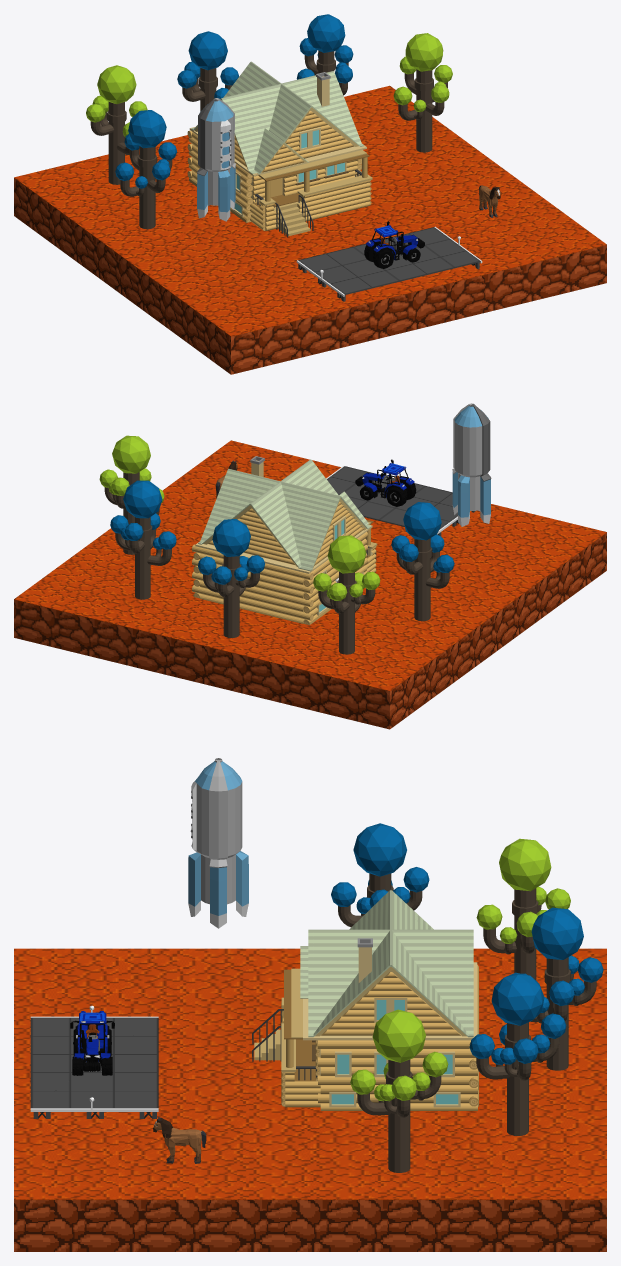
The picture shows the model from 3 angles, top to bottom: view 1: azimuth 30°, elevation 25°; view 2: azimuth 150°, elevation 25°; view 3: azimuth 270°, elevation 25°; orthographic projection. The views are drawn at different scales.
Visible parts, largest first — view 1: Cube.001, Cube.1516, OBJRANDOM_ROCKETSHIP, VEHICLES_TRACTOR, ANIMAL_CABALLO; view 2: Cube.001, Cube.1516, OBJRANDOM_ROCKETSHIP, VEHICLES_TRACTOR; view 3: Cube.001, Cube.1516, OBJRANDOM_ROCKETSHIP, VEHICLES_TRACTOR, ANIMAL_CABALLO.
Boxes of the visible parts, <box> form: Cube.001: <box>14,14,606,374</box>; Cube.1516: <box>187,61,372,237</box>; OBJRANDOM_ROCKETSHIP: <box>197,98,235,221</box>; VEHICLES_TRACTOR: <box>364,221,424,268</box>; ANIMAL_CABALLO: <box>479,185,500,217</box>; Cube.001: <box>14,435,606,729</box>; Cube.1516: <box>192,456,377,625</box>; OBJRANDOM_ROCKETSHIP: <box>452,403,491,526</box>; VEHICLES_TRACTOR: <box>355,459,416,506</box>; Cube.001: <box>14,823,606,1251</box>; Cube.1516: <box>252,890,478,1110</box>; OBJRANDOM_ROCKETSHIP: <box>188,758,248,928</box>; VEHICLES_TRACTOR: <box>70,1011,114,1075</box>; ANIMAL_CABALLO: <box>153,1117,206,1163</box>.
Bounding box in the file's own units: 4000 × 2184 × 4000.
38 materials, 5 textured.
